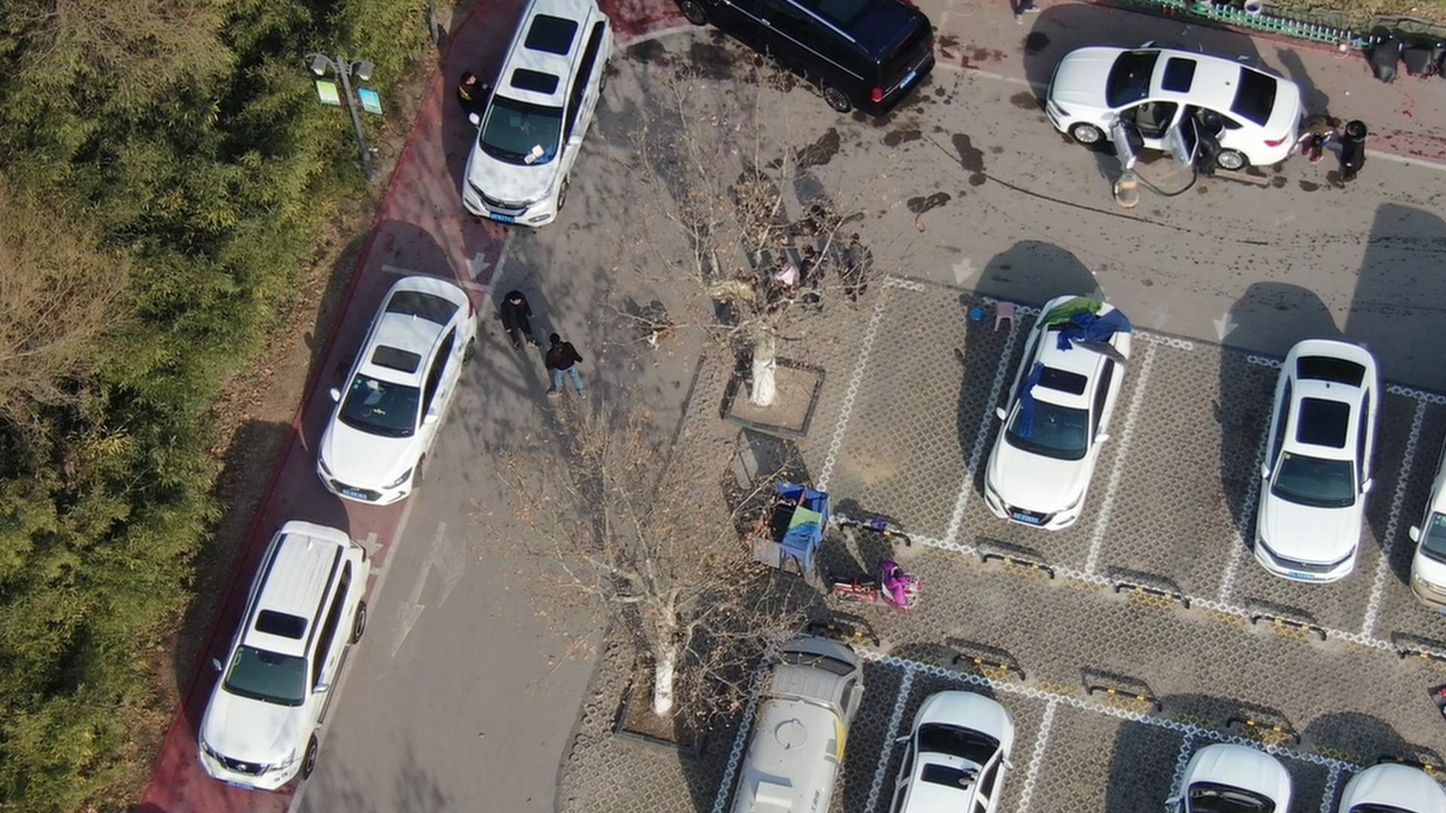human: (542, 333, 590, 401), (844, 232, 880, 310), (1335, 118, 1375, 187), (800, 242, 839, 312), (501, 288, 536, 355), (1293, 114, 1339, 163), (1197, 119, 1233, 181), (460, 64, 493, 117)
